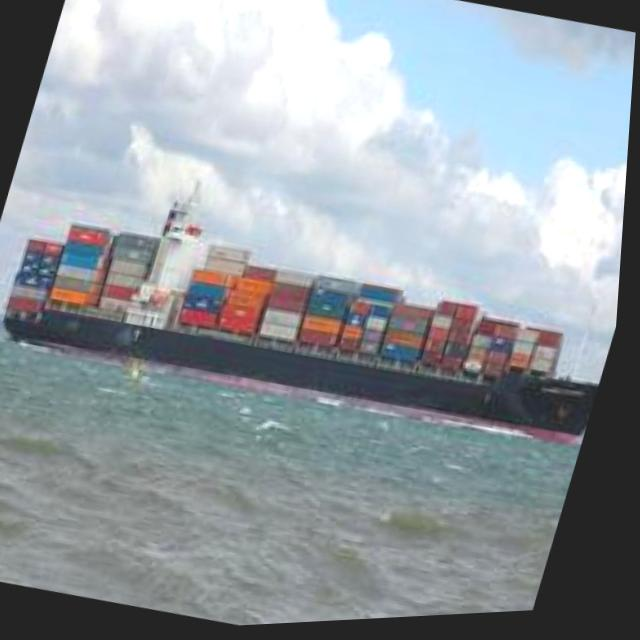ship2: (5, 178, 605, 453)
